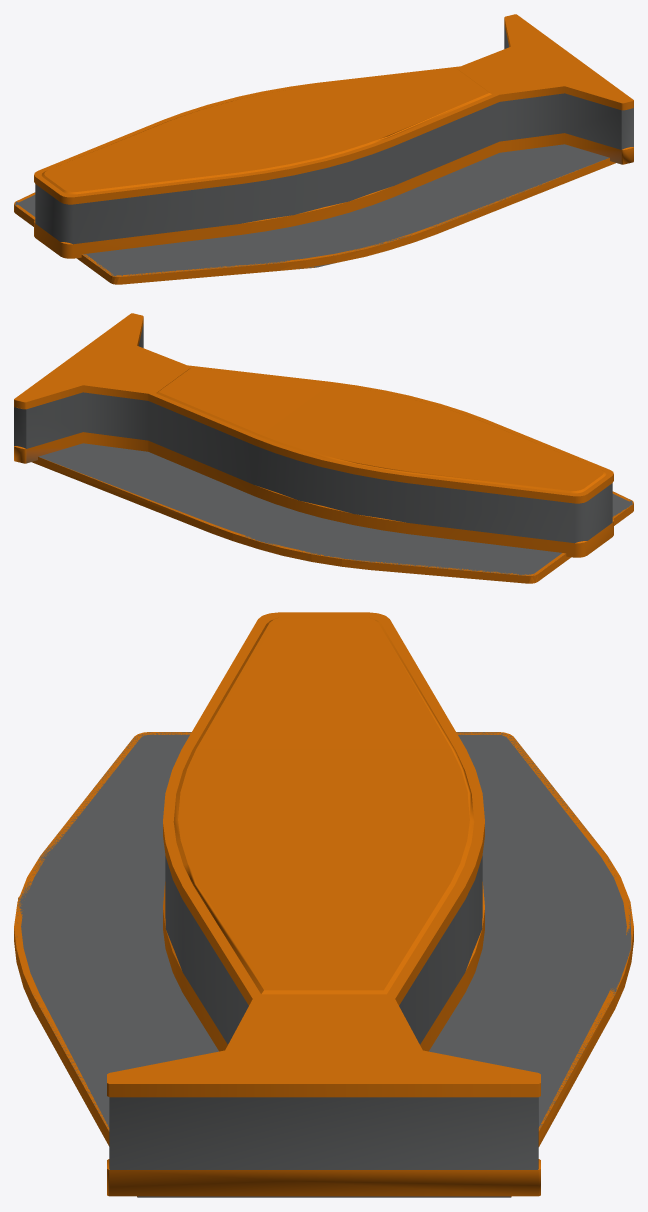
The model's file is claw_guide.fbx.
3 renders of one model, top to bottom at view 1: azimuth 30°, elevation 25°; view 2: azimuth 150°, elevation 25°; view 3: azimuth 270°, elevation 25°, orthographic. The views are drawn at different scales.
Parts seen in each view (by area): view 1: claw_guide_LOD0, claw_guide_col; view 2: claw_guide_LOD0, claw_guide_col; view 3: claw_guide_LOD0, claw_guide_col.
Part boxes in pixels (<box>): claw_guide_LOD0: <box>14,14,633,284</box>; claw_guide_col: <box>15,14,633,276</box>; claw_guide_LOD0: <box>14,313,633,583</box>; claw_guide_col: <box>14,314,632,575</box>; claw_guide_LOD0: <box>14,612,633,1196</box>; claw_guide_col: <box>17,612,631,1197</box>.
Size of what is drawn, in the model's own units: 72 by 8.77 by 40.
